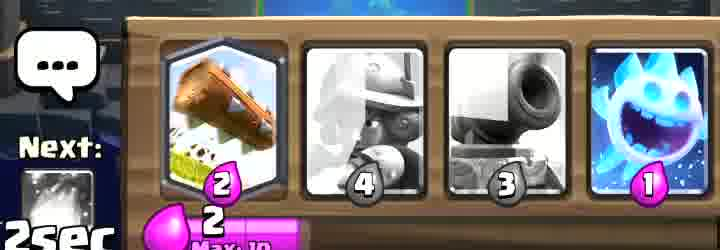ice-spirit: (595, 47, 710, 200)
log: (168, 43, 281, 188)
